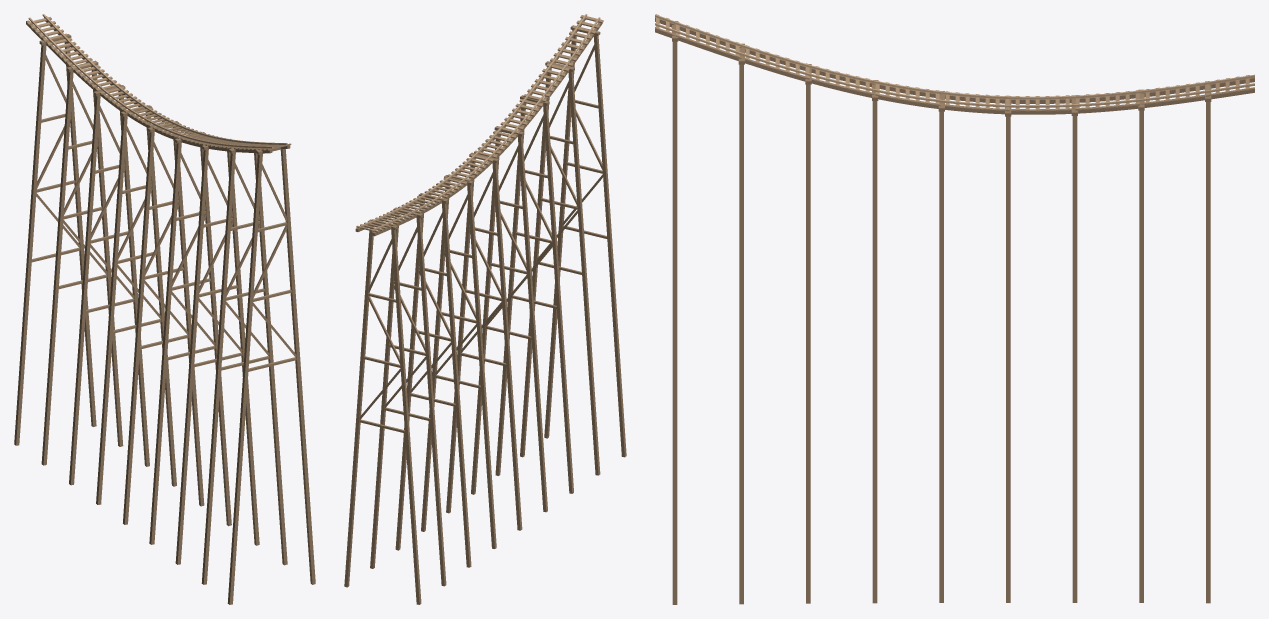
File: MinecartMayhemRailHill.glb
The picture shows the model from 3 angles, left to right: view 1: azimuth 30°, elevation 25°; view 2: azimuth 150°, elevation 25°; view 3: azimuth 270°, elevation 25°; orthographic projection. The views are drawn at different scales.
Parts seen in each view (by area): view 1: Trestle, Ties, Rails; view 2: Trestle, Ties, Rails; view 3: Trestle, Rails, Ties.
Part boxes in pixels (x1,y1,x2,y2): Trestle: (14, 16, 315, 604); Ties: (27, 17, 291, 150); Rails: (28, 14, 287, 148); Trestle: (344, 18, 626, 604); Ties: (356, 15, 603, 232); Rails: (358, 14, 600, 231); Trestle: (655, 17, 1254, 604); Rails: (655, 14, 1254, 107); Ties: (656, 14, 1249, 111).
Bounding box in the file's own units: 18.39 × 92.78 × 90.
